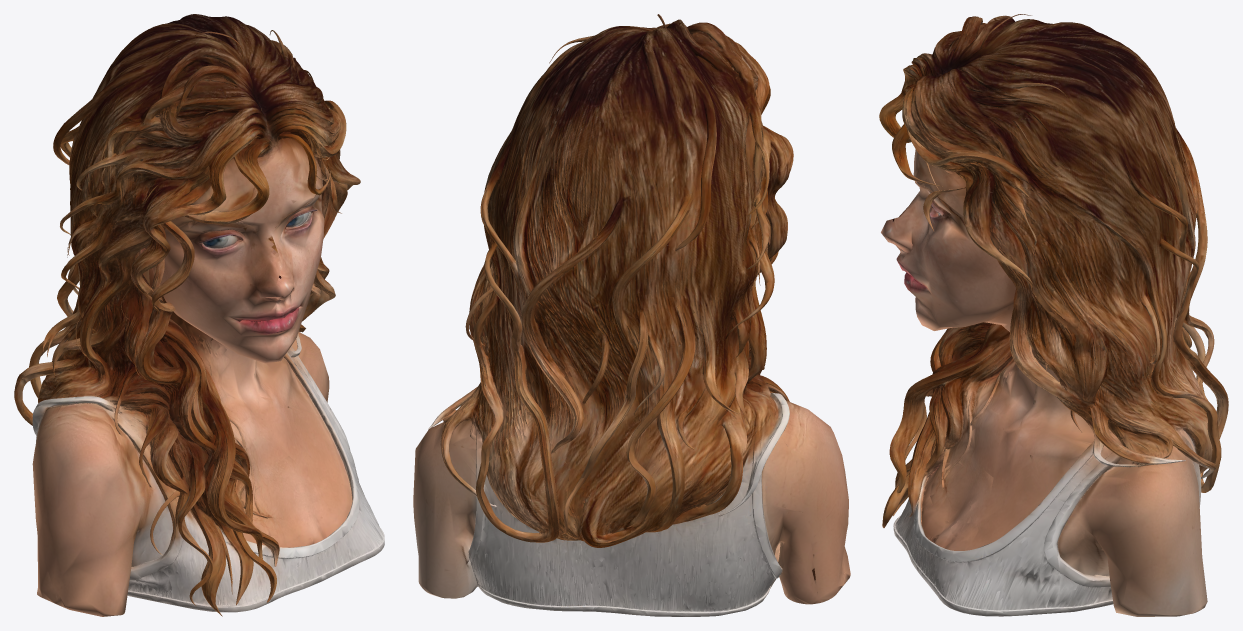
The model's file is aya.glb.
3 views of the same model, side by side, from view 1: azimuth 30°, elevation 25°; view 2: azimuth 150°, elevation 25°; view 3: azimuth 270°, elevation 25° (orthographic).
Bounding box in the file's own units: 1.3 × 1.9 × 1.14.
Materials: 1 (1 with a texture image).
